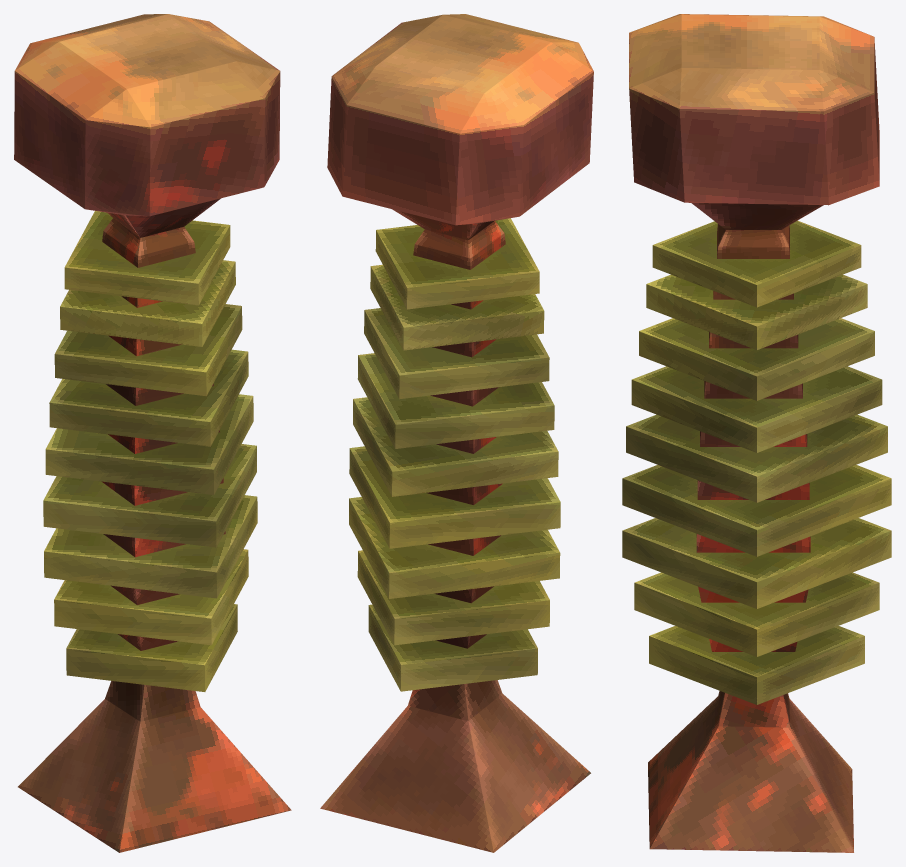
The model's file is item_steampunk_coils_small.glb.
3 renders of one model, left to right at view 1: azimuth 30°, elevation 25°; view 2: azimuth 150°, elevation 25°; view 3: azimuth 270°, elevation 25°, orthographic. The views are drawn at different scales.
Visible parts, largest first — view 1: Coils2; view 2: Coils2; view 3: Coils2.
Part boxes in pixels (x1,y1,x2,y2): Coils2: (14, 14, 291, 852); Coils2: (320, 14, 593, 852); Coils2: (622, 14, 891, 852).
Bounding box in the file's own units: 0.2876 × 0.9662 × 0.3069.
Materials: 1 (1 with a texture image).
